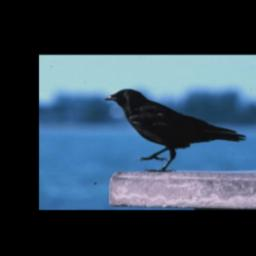Crow: (102, 86, 248, 173)
